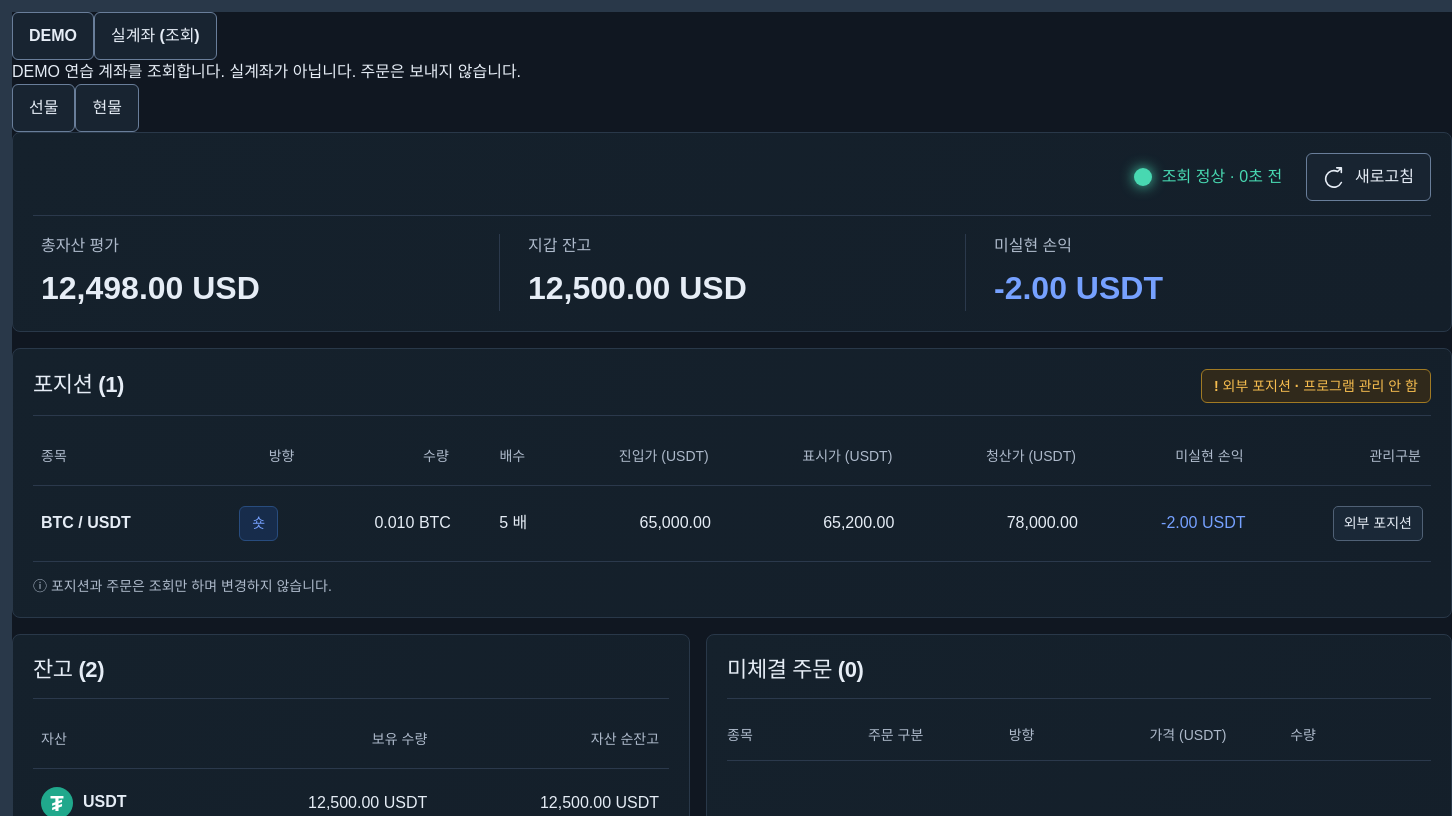
Test: refuses a legacy LINEAR response after SPOT was selected
Click the button "현물". click: (107, 108)
box: [76, 84, 139, 132]
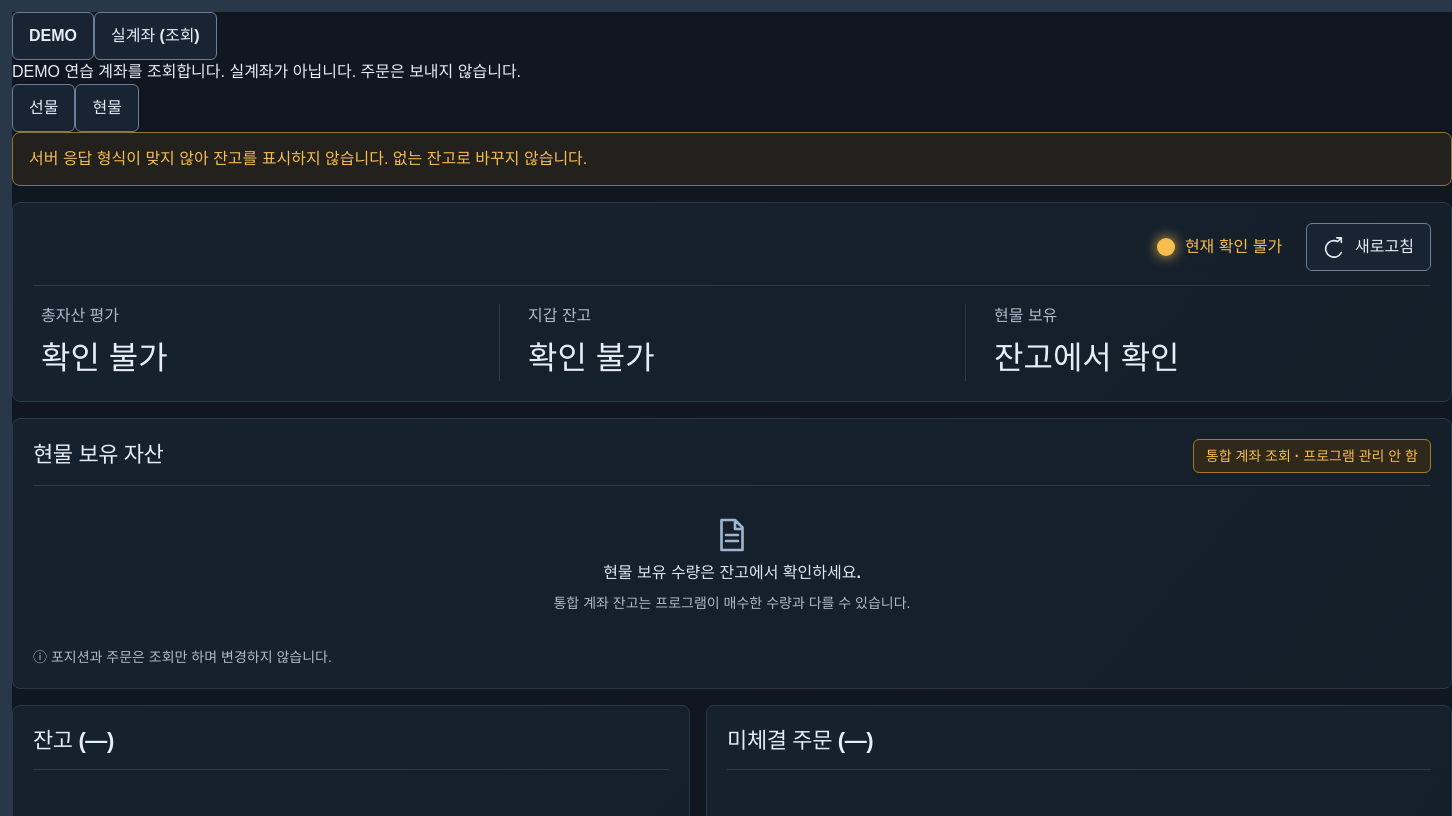
Result: the message "서버 응답 형식이 맞지 않아 잔고를 표시하지 않습니다. 없는 잔고로 바꾸지 않습니다." is shown at [12, 132, 1451, 186]
Result: the column heading "BTC / USDT" is gone
